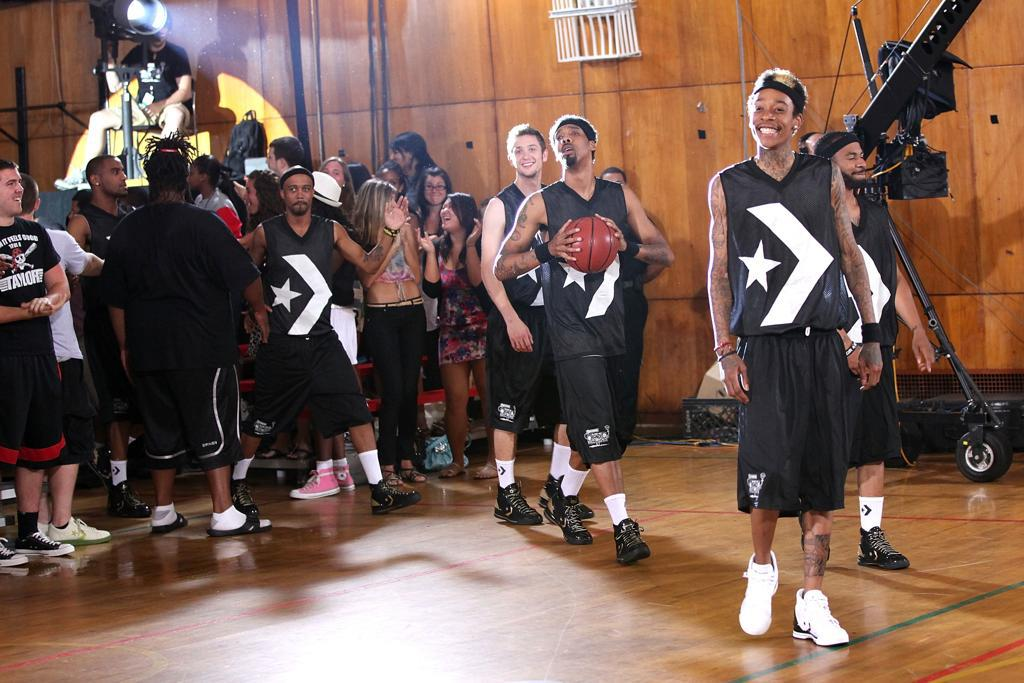face: (751, 89, 795, 148), (832, 139, 865, 187), (556, 124, 589, 166), (513, 137, 543, 176), (98, 160, 129, 195), (1, 170, 25, 214), (285, 180, 314, 211), (322, 165, 345, 194), (243, 182, 263, 214), (441, 199, 461, 229), (425, 178, 446, 205), (390, 146, 410, 170), (380, 195, 398, 221), (150, 18, 167, 45), (266, 151, 284, 176), (381, 173, 400, 196), (69, 203, 87, 226), (190, 167, 204, 189)
